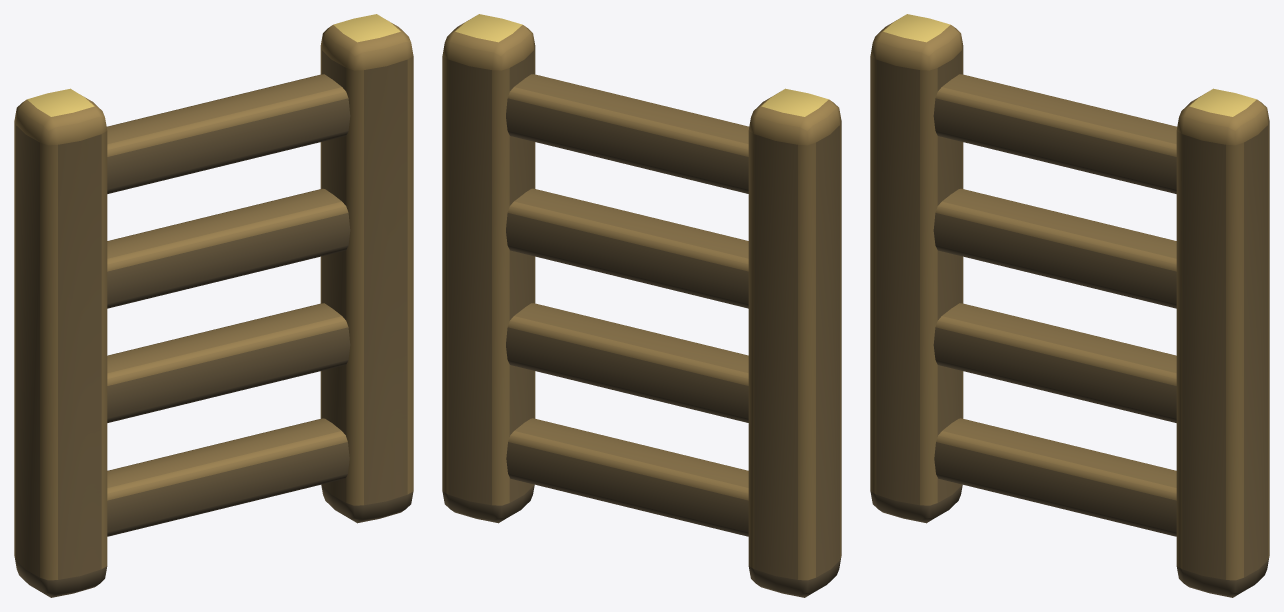
Rendered from Wood_Ladder.fbx.
The picture shows the model from 3 angles, left to right: view 1: azimuth 30°, elevation 25°; view 2: azimuth 150°, elevation 25°; view 3: azimuth 330°, elevation 25°; orthographic projection.
Parts seen in each view (by area): view 1: Wood_Ladder_LOD0; view 2: Wood_Ladder_LOD0; view 3: Wood_Ladder_LOD0.
Part boxes in pixels (bbox=[...]): Wood_Ladder_LOD0: bbox=[14, 14, 413, 597]; Wood_Ladder_LOD0: bbox=[442, 14, 841, 597]; Wood_Ladder_LOD0: bbox=[870, 14, 1269, 597].
Size of what is drawn, in the model's own units: 0.8613 by 1.05 by 0.1617.
